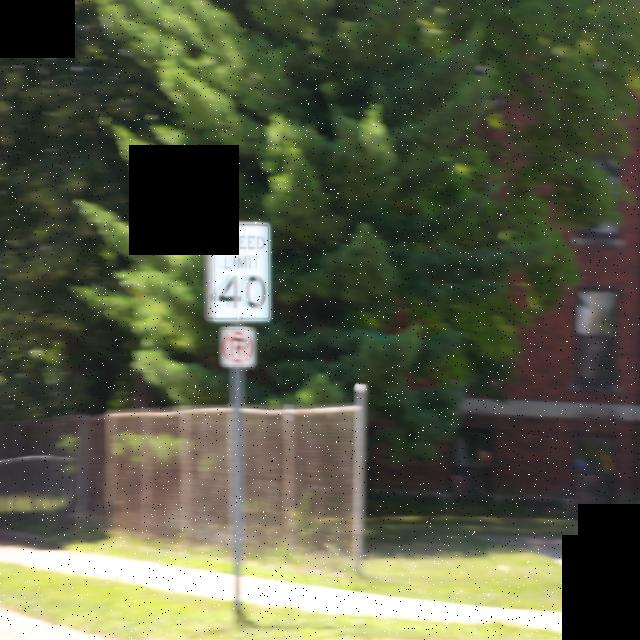regulatory: (205, 218, 275, 324), (220, 326, 256, 371)
